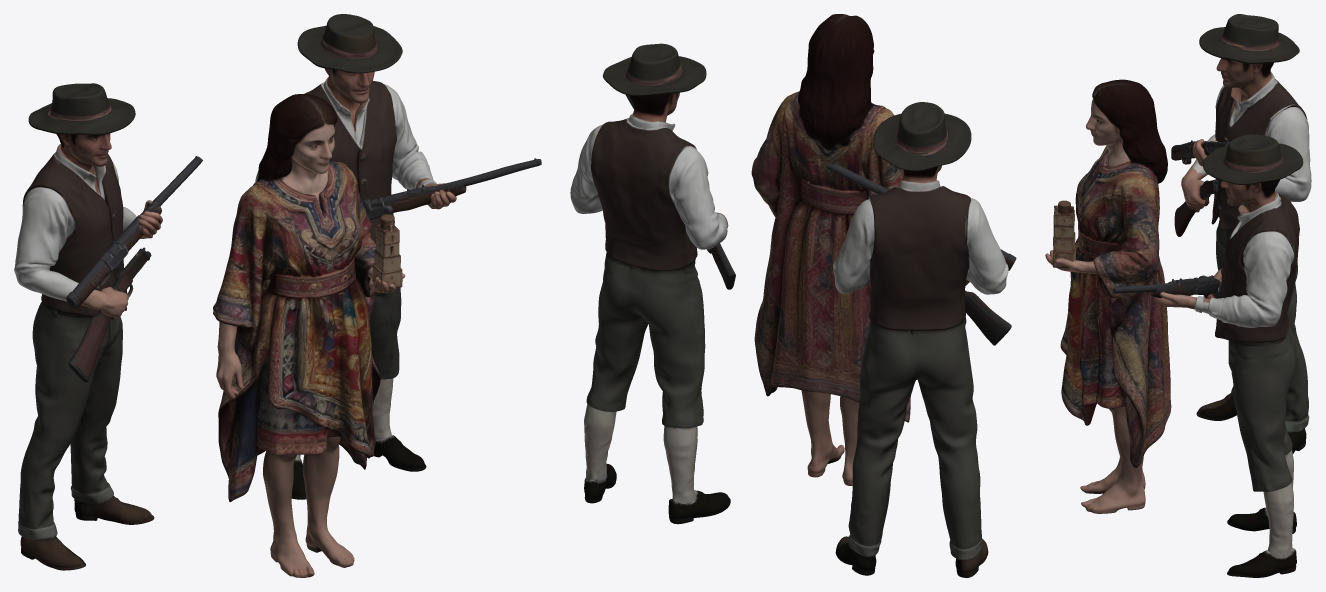
The model's file is 48-el-alto-de-santa-bárbara-y-el-ejército-de-nadie-optimized.glb.
The picture shows the model from 3 angles, left to right: view 1: azimuth 30°, elevation 25°; view 2: azimuth 150°, elevation 25°; view 3: azimuth 270°, elevation 25°; orthographic projection. The views are drawn at different scales.
Visible parts, largest first — view 1: tripo_node_6a9f03db-8933-4428-87eb-60d391df5eac; view 2: tripo_node_6a9f03db-8933-4428-87eb-60d391df5eac; view 3: tripo_node_6a9f03db-8933-4428-87eb-60d391df5eac.
Part boxes in pixels (box(x1,y1,x2,y2)): tripo_node_6a9f03db-8933-4428-87eb-60d391df5eac: box(14, 14, 541, 577); tripo_node_6a9f03db-8933-4428-87eb-60d391df5eac: box(570, 14, 1016, 577); tripo_node_6a9f03db-8933-4428-87eb-60d391df5eac: box(1045, 14, 1311, 577).
Bounding box in the file's own units: 1 × 0.9534 × 0.5522.
Materials: 1 (1 with a texture image).
